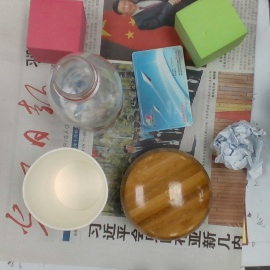bottle: (48, 51, 126, 134)
card: (132, 45, 193, 132)
chess: (119, 147, 212, 240)
cup: (22, 147, 108, 230)
